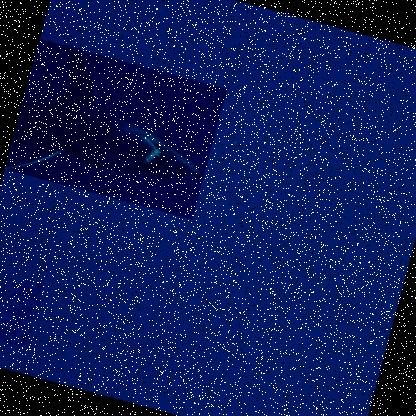mako-shark: (3, 37, 226, 219)
